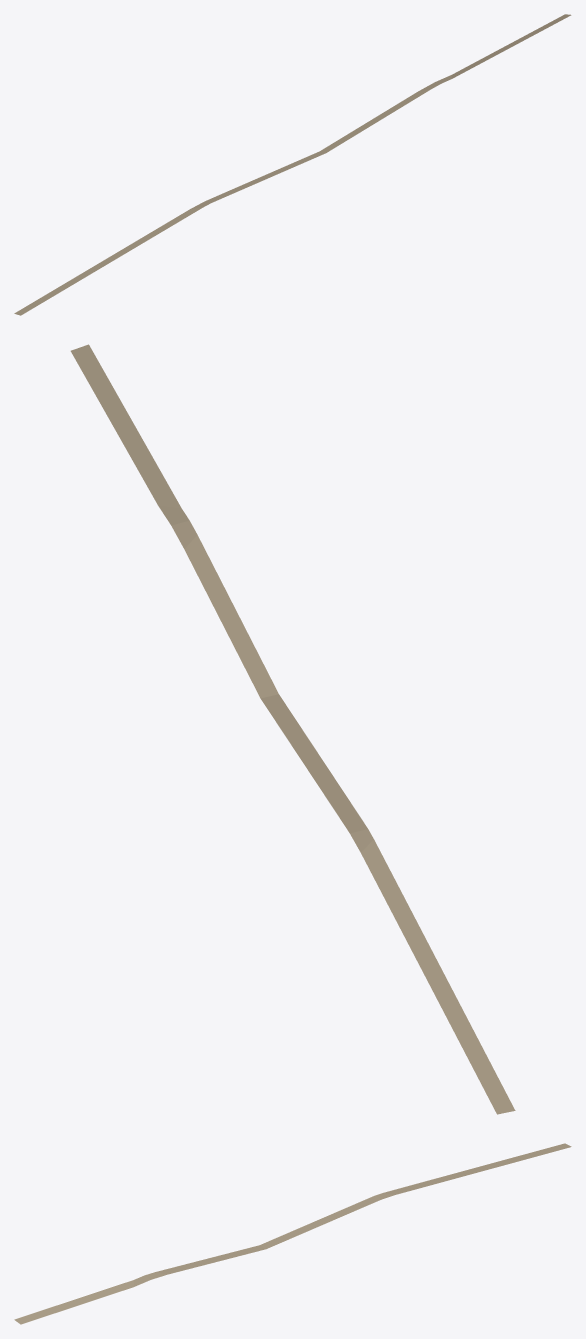
The model's file is farm_-25_-30_track.glb.
3 views of the same model, one above another, from view 1: azimuth 90°, elevation 25°; view 2: azimuth 150°, elevation 25°; view 3: azimuth 270°, elevation 25° (orthographic). The views are drawn at different scales.
Parts seen in each view (by area): view 1: geometry_0; view 2: geometry_0; view 3: geometry_0.
Part boxes in pixels (x1,y1,x2,y2): geometry_0: [14, 14, 571, 315]; geometry_0: [70, 344, 515, 1114]; geometry_0: [14, 1143, 571, 1324].
Size of the model in its own units: 196 by 23.82 by 191.
